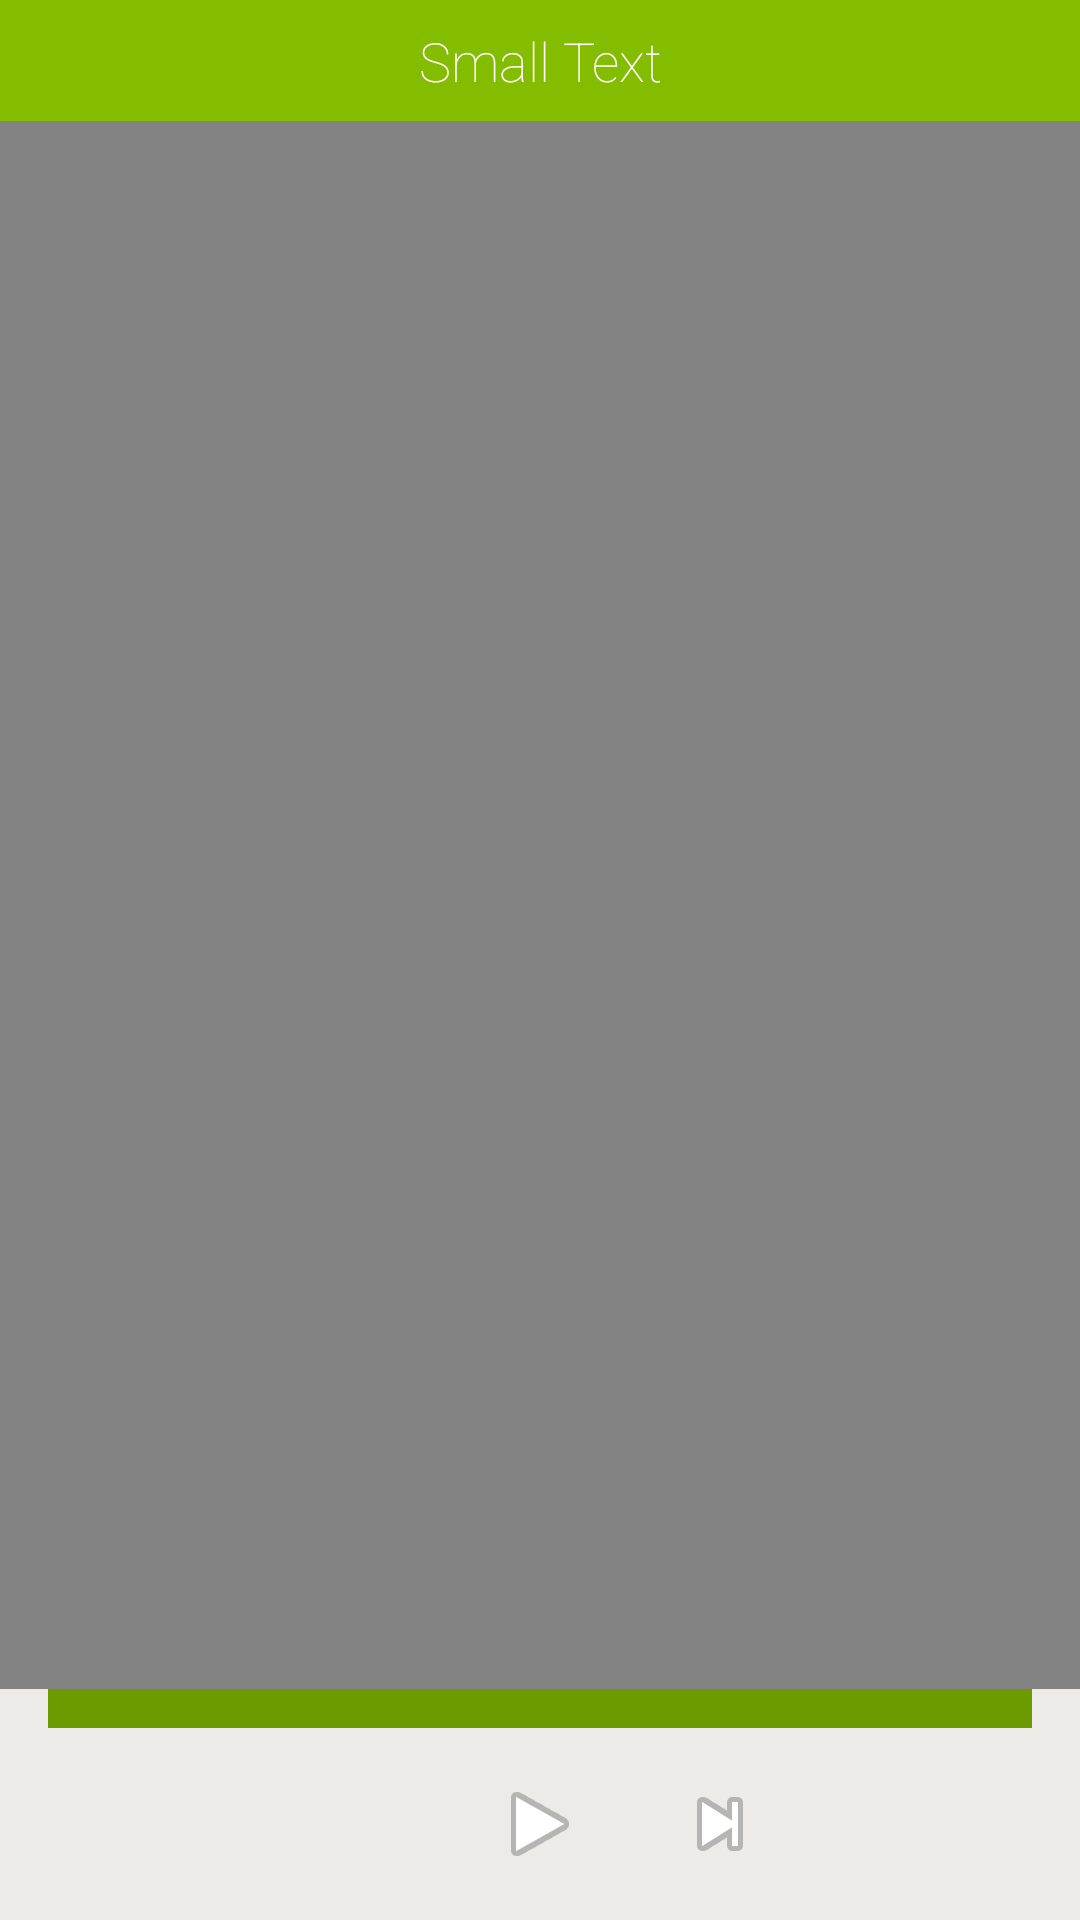

Icon click points for this 1080px×1920px phone screenshot, format (x=x, y=y):
next: (x=720, y=1824)
play: (x=540, y=1824)
